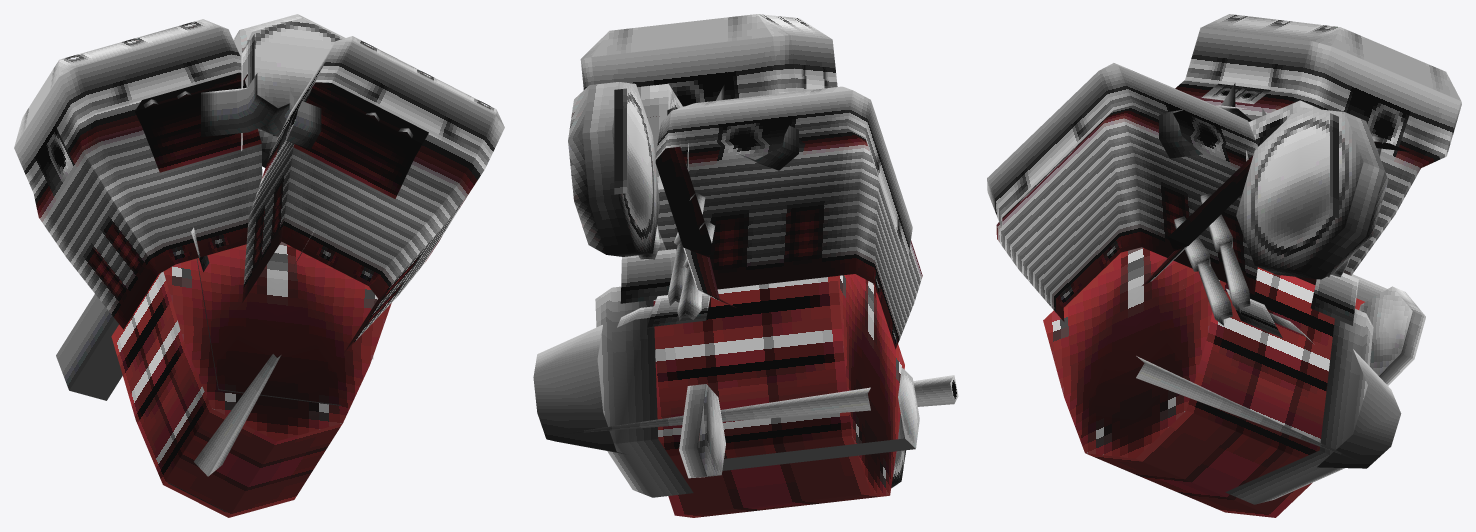
File: ps2_save-icons_americanchopper.glb
3 renders of one model, left to right at view 1: azimuth 30°, elevation 25°; view 2: azimuth 150°, elevation 25°; view 3: azimuth 270°, elevation 25°, orthographic. The views are drawn at different scales.
Visible parts, largest first — view 1: game.ico; view 2: game.ico; view 3: game.ico.
Boxes of the visible parts, box(x1,y1,x2,y2) form: game.ico: box(14, 14, 504, 517); game.ico: box(533, 14, 958, 517); game.ico: box(987, 14, 1461, 517).
Size of the model in its own units: 4.3 by 4.35 by 4.3.
Materials: 1 (1 with a texture image).
